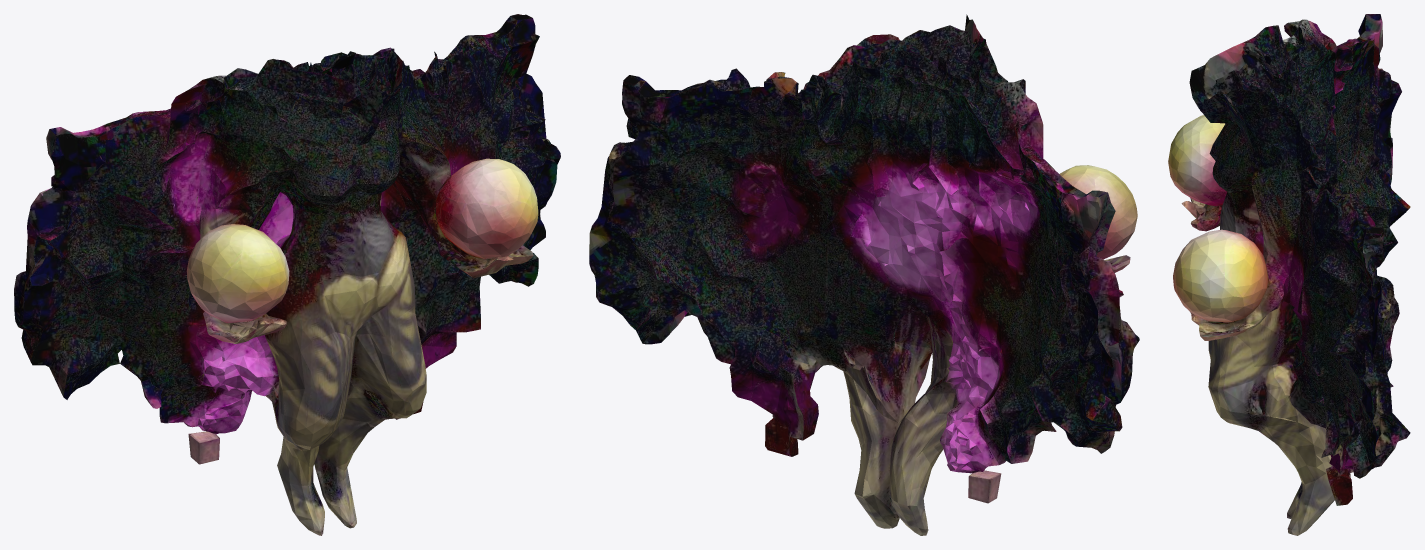
Rendered from pyrewisp__lordOfFalseDawn.glb.
3 renders of one model, left to right at view 1: azimuth 30°, elevation 25°; view 2: azimuth 150°, elevation 25°; view 3: azimuth 270°, elevation 25°, orthographic. The views are drawn at different scales.
Parts seen in each view (by area): view 1: world; view 2: world; view 3: world.
Boxes of the visible parts, <box> form: world: <box>14,14,560,535</box>; world: <box>589,14,1139,535</box>; world: <box>1168,14,1410,535</box>.
Size of the model in its own units: 0.9964 by 0.8871 by 0.416.
1 material, 1 textured.
